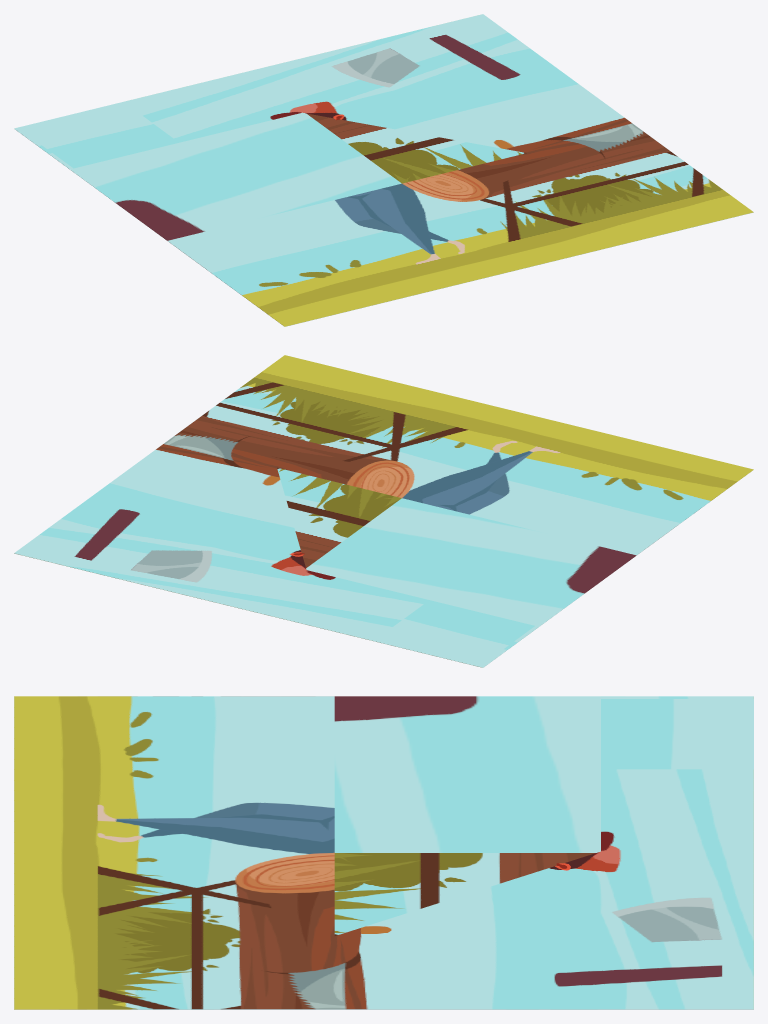
Rendered from Level 18.fbx.
3 views of the same model, one above another, from view 1: azimuth 30°, elevation 25°; view 2: azimuth 150°, elevation 25°; view 3: azimuth 270°, elevation 25° (orthographic). The views are drawn at different scales.
Parts seen in each view (by area): view 1: mesh1, blend; view 2: mesh1, blend; view 3: mesh1, blend.
Boxes of the visible parts, <box> form: mesh1: <box>14,14,753,326</box>; blend: <box>70,112,401,240</box>; mesh1: <box>14,355,753,667</box>; blend: <box>306,498,636,626</box>; mesh1: <box>14,696,753,1009</box>; blend: <box>334,696,600,852</box>.
Bounding box in the file's own units: 2400 × 1 × 2400.
